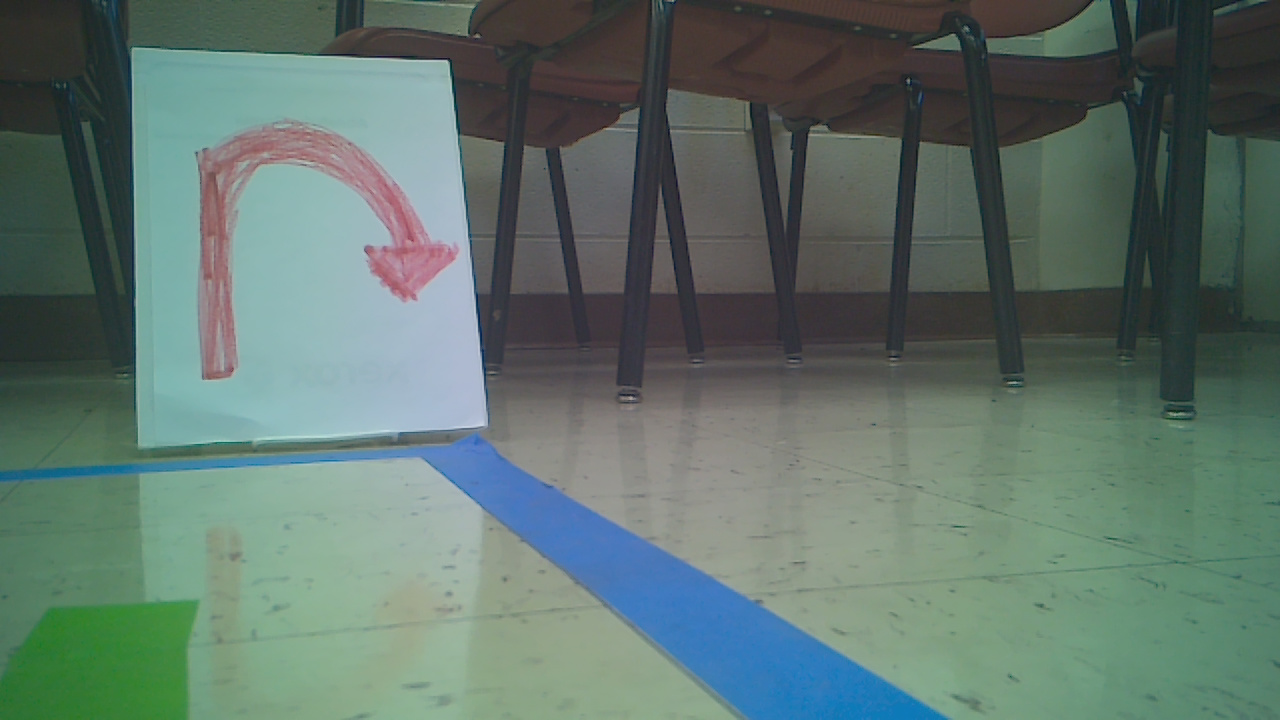greenline: (1, 600, 199, 720)
uturn: (193, 120, 464, 380)
